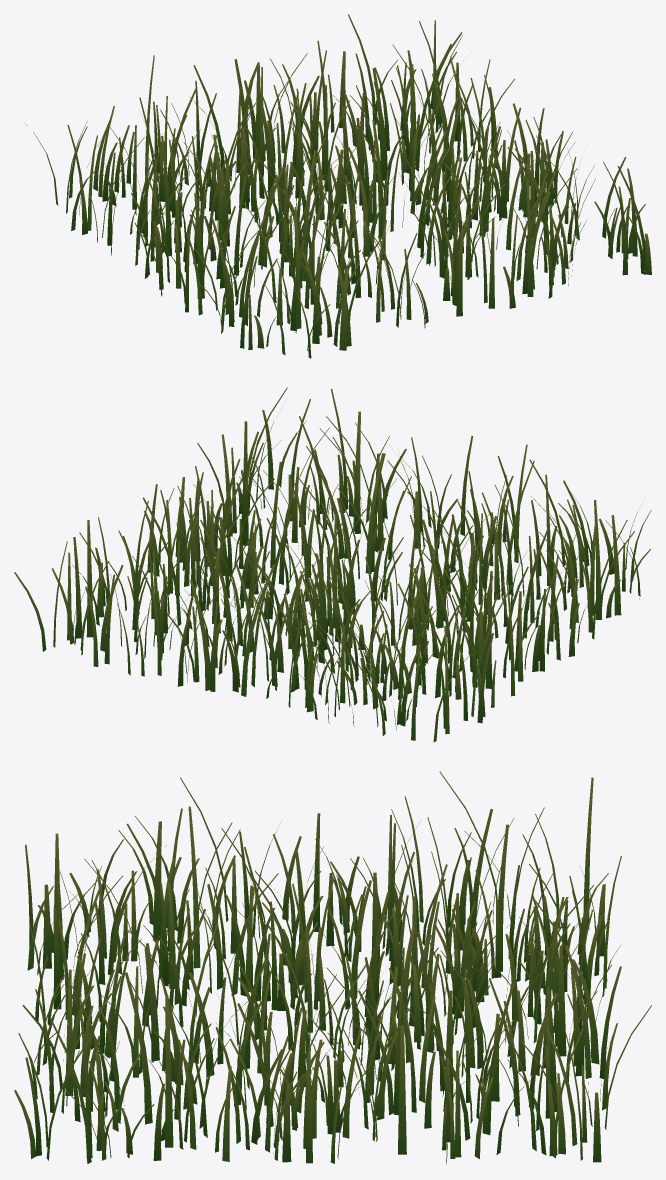
File: Turf_Wild_v2.glb
3 views of the same model, one above another, from view 1: azimuth 30°, elevation 25°; view 2: azimuth 150°, elevation 25°; view 3: azimuth 270°, elevation 25° (orthographic). The views are drawn at different scales.
Visible parts, largest first — view 1: Turf_Wild_v2; view 2: Turf_Wild_v2; view 3: Turf_Wild_v2.
Boxes of the visible parts, bbox=[...] form: Turf_Wild_v2: bbox=[25, 14, 651, 358]; Turf_Wild_v2: bbox=[14, 387, 651, 742]; Turf_Wild_v2: bbox=[14, 771, 651, 1163].
Size of the model in its own units: 1.38 by 0.3439 by 1.34.
